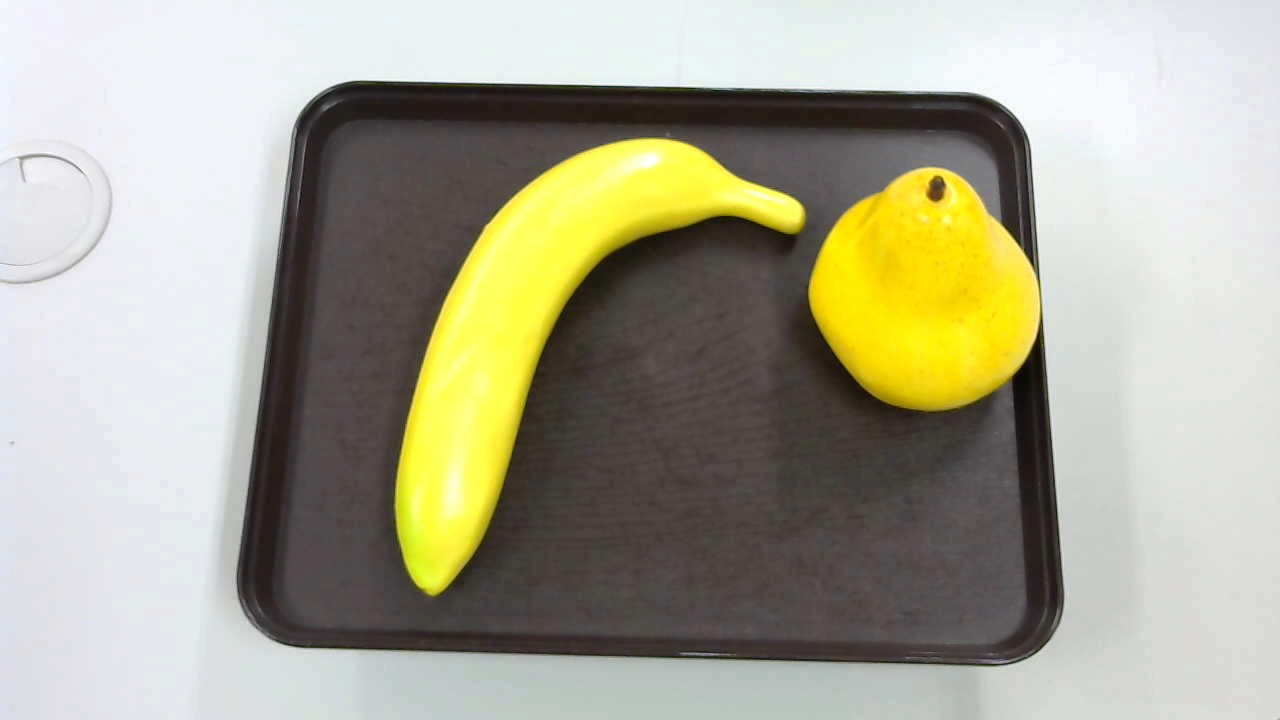banana: (382, 135, 812, 595)
yellow pear: (805, 167, 1051, 418)
